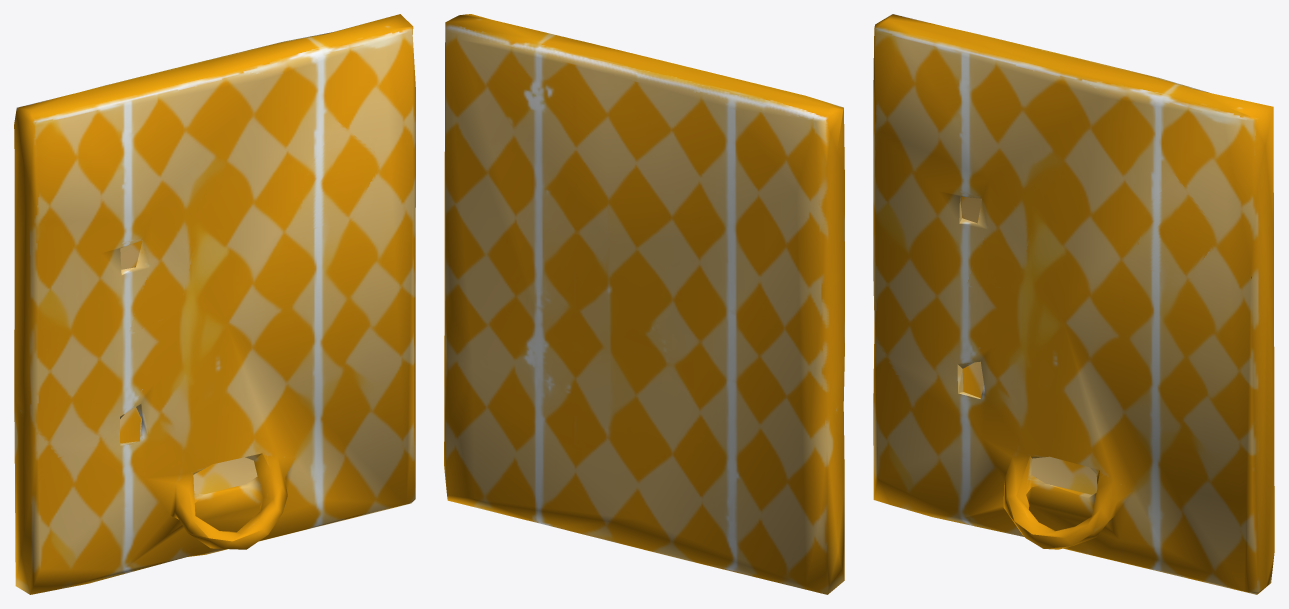
File: yellow-wallpaper.glb
3 renders of one model, left to right at view 1: azimuth 30°, elevation 25°; view 2: azimuth 150°, elevation 25°; view 3: azimuth 330°, elevation 25°, orthographic.
Parts seen in each view (by area): view 1: geometry_0.001; view 2: geometry_0.001; view 3: geometry_0.001.
Boxes of the visible parts, bbox=[...] form: geometry_0.001: bbox=[14, 14, 415, 594]; geometry_0.001: bbox=[444, 14, 844, 594]; geometry_0.001: bbox=[873, 14, 1274, 594].
Bounding box in the file's own units: 0.8437 × 0.9997 × 0.1581.
Materials: 1 (1 with a texture image).
